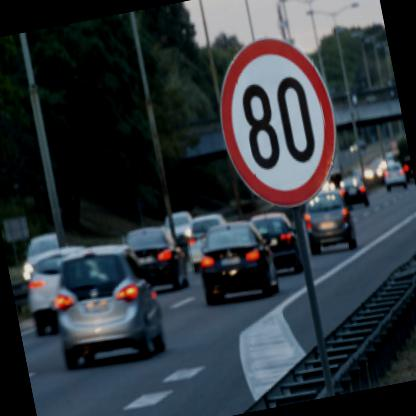speedlimit: (202, 23, 350, 218)
